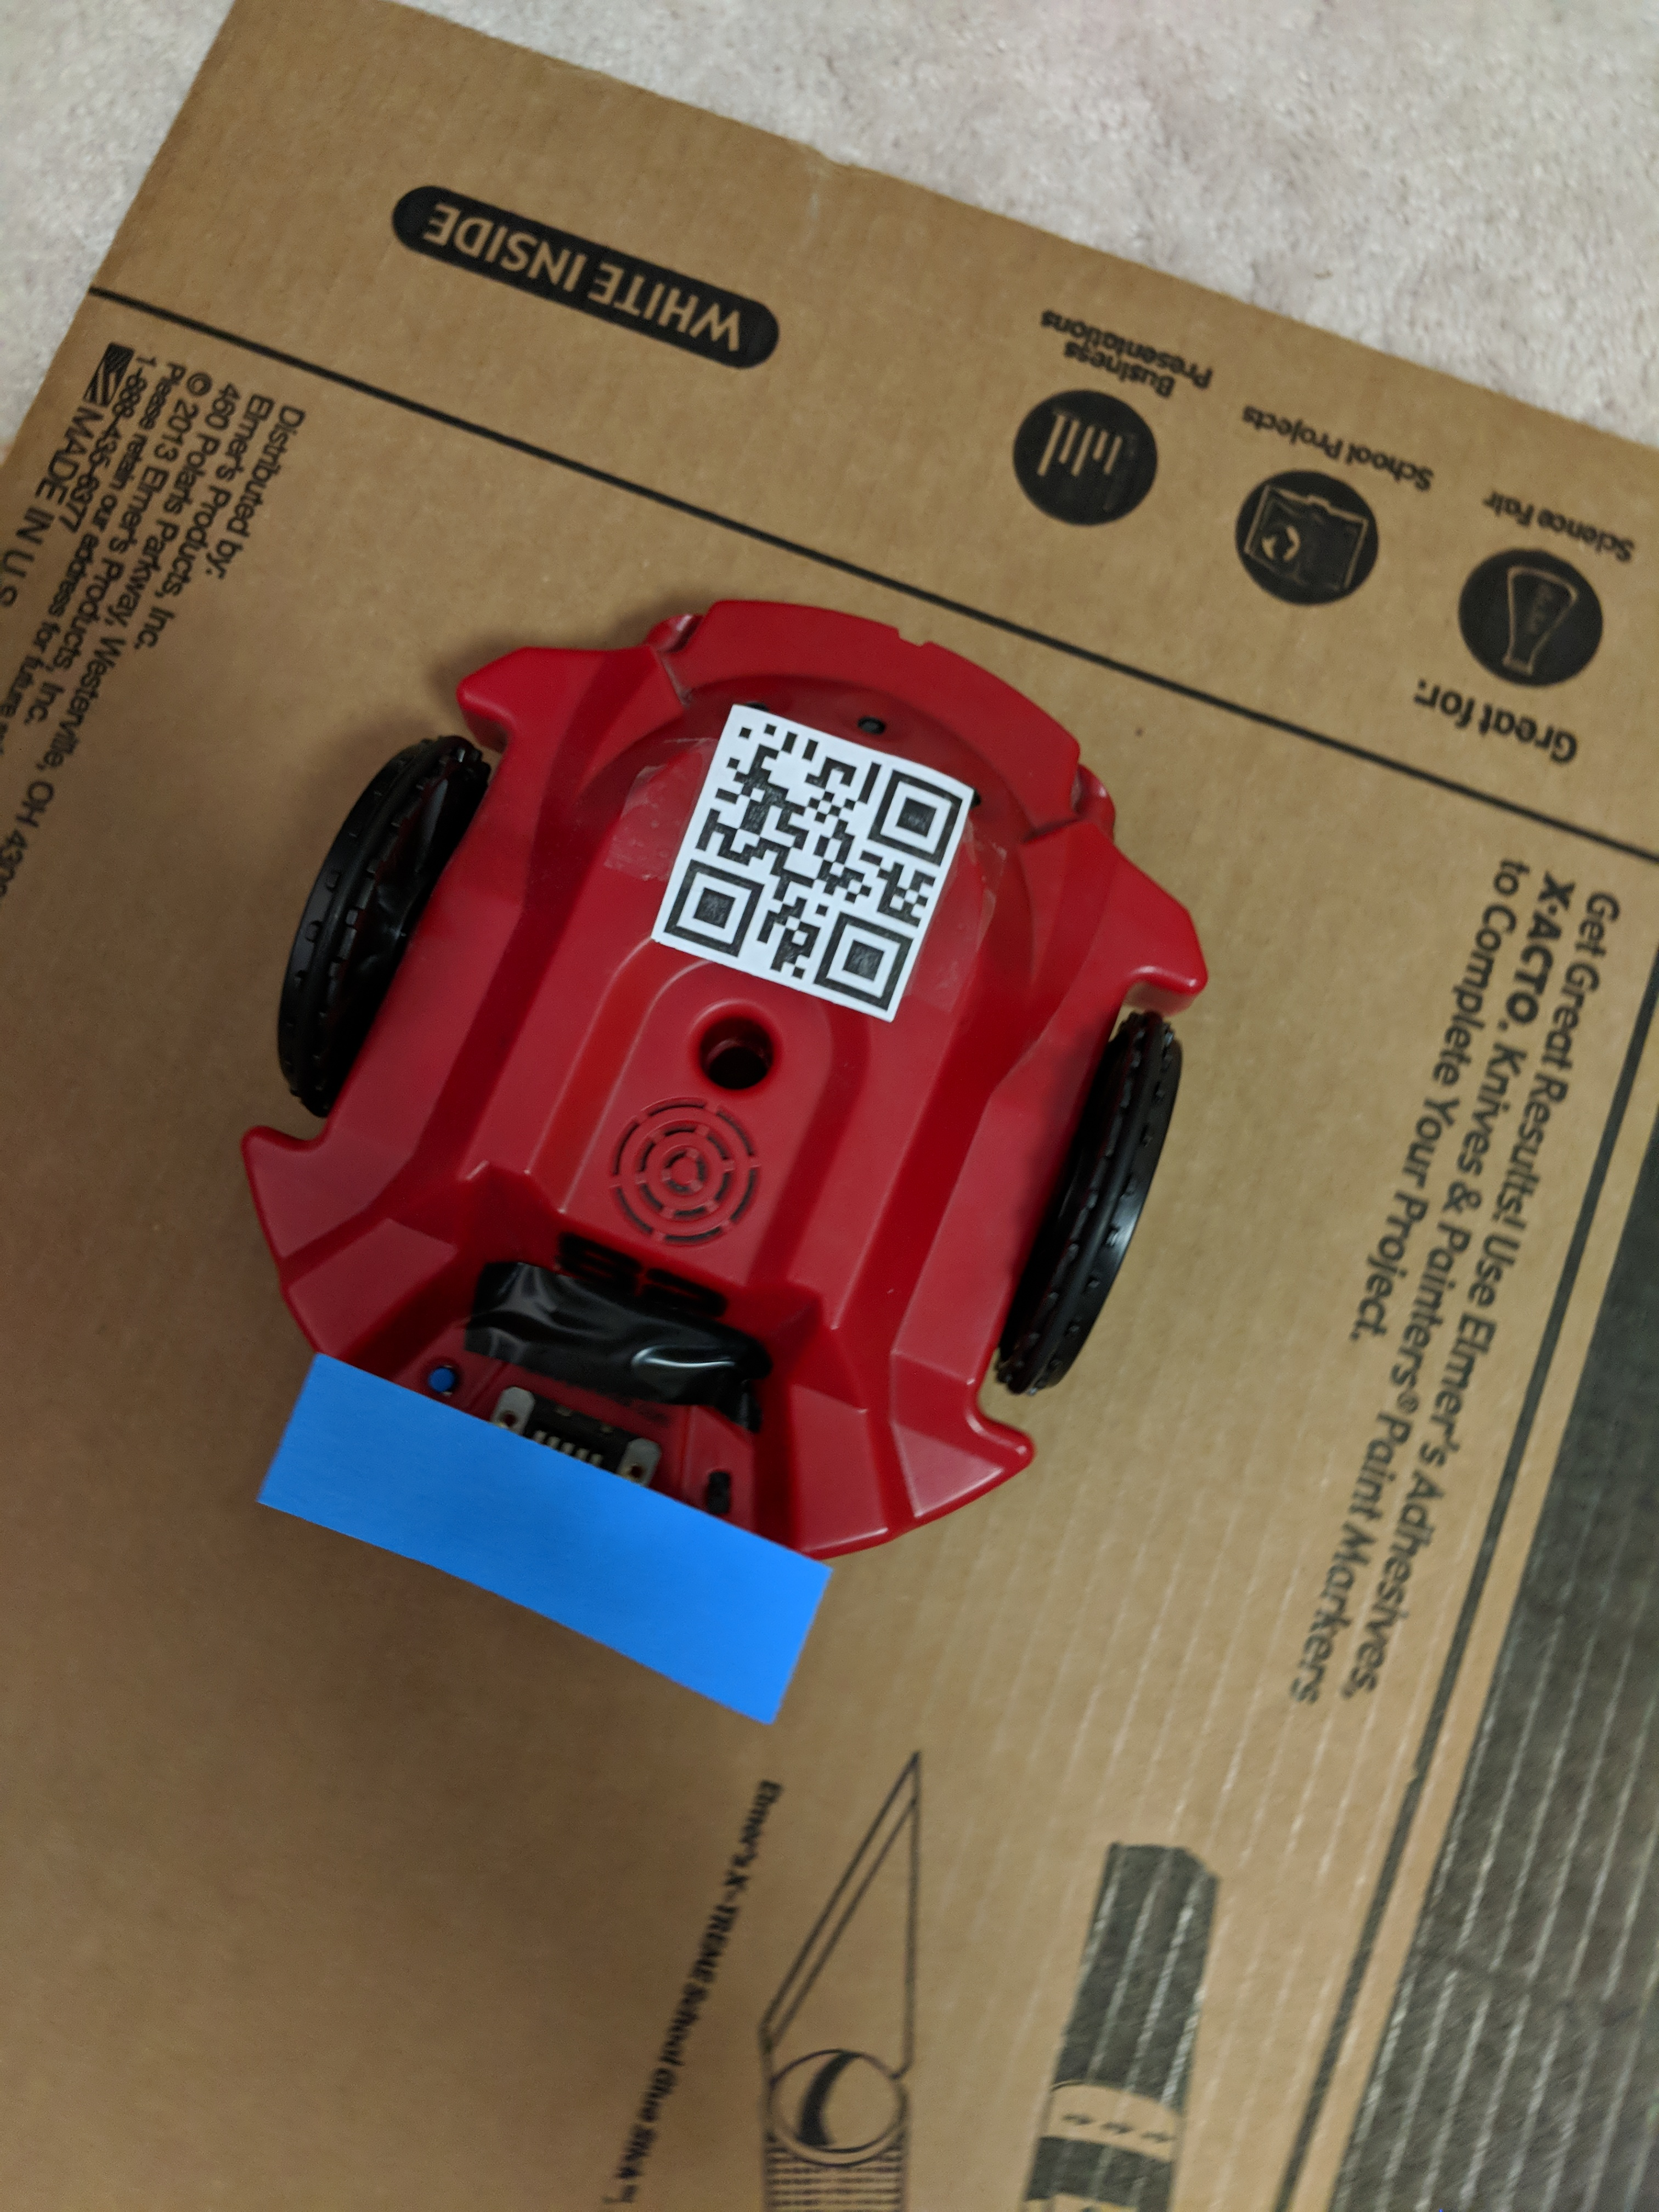chassis: (225, 549, 1237, 1714)
qr: (657, 672, 972, 1049)
